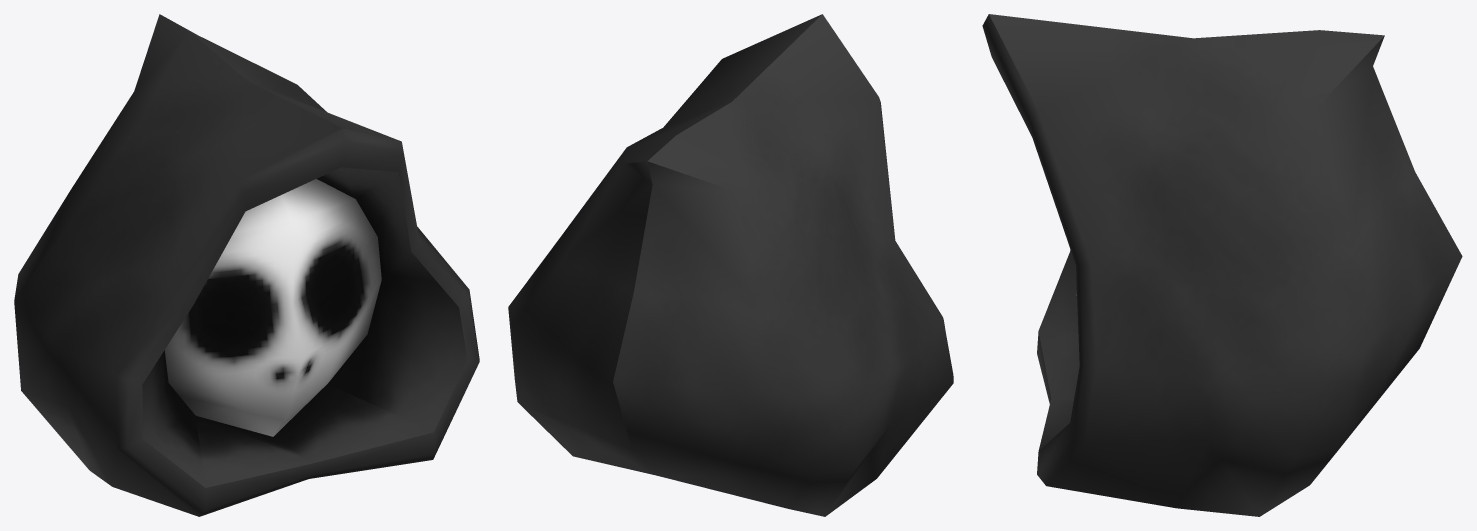
Rendered from MOD_Player_Head.fbx.
3 views of the same model, side by side, from view 1: azimuth 30°, elevation 25°; view 2: azimuth 150°, elevation 25°; view 3: azimuth 270°, elevation 25° (orthographic). The views are drawn at different scales.
Visible parts, largest first — view 1: MOD_Player_Head; view 2: MOD_Player_Head; view 3: MOD_Player_Head.
Part boxes in pixels (x1,y1,x2,y2): MOD_Player_Head: (14, 14, 479, 516); MOD_Player_Head: (508, 14, 953, 516); MOD_Player_Head: (982, 14, 1462, 516).
Bounding box in the file's own units: 90.64 × 94.05 × 93.97.
Materials: 1 (1 with a texture image).
